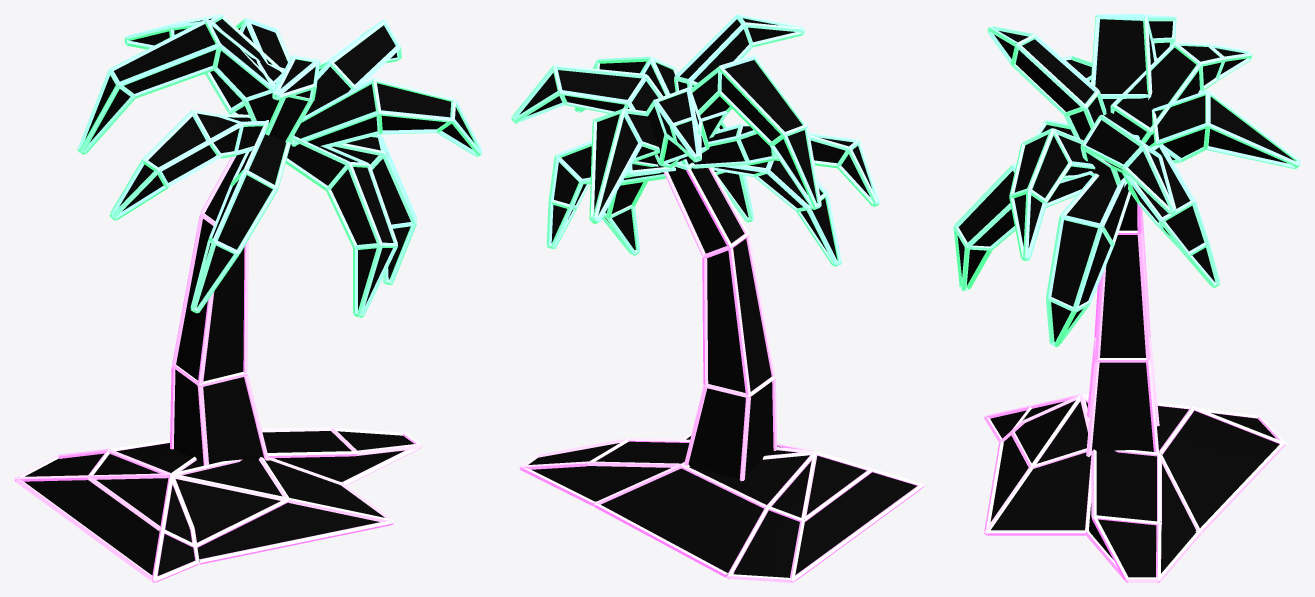
Rendered from Synth Palm.fbx.
3 views of the same model, side by side, from view 1: azimuth 30°, elevation 25°; view 2: azimuth 150°, elevation 25°; view 3: azimuth 270°, elevation 25° (orthographic). The views are drawn at different scales.
Parts seen in each view (by area): view 1: Palm, Hojas2, Tronco; view 2: Palm, Hojas2, Tronco; view 3: Palm, Hojas2, Tronco.
Boxes of the visible parts, x1,y1,x2,y2 form: Palm: (24, 18, 473, 575); Hojas2: (77, 14, 482, 317); Tronco: (14, 156, 421, 582); Palm: (519, 18, 916, 577); Hojas2: (511, 14, 879, 266); Tronco: (519, 167, 924, 582); Palm: (957, 19, 1294, 577); Hojas2: (953, 14, 1300, 347); Tronco: (984, 203, 1285, 582).
Bounding box in the file's own units: 391 × 504 × 339.
